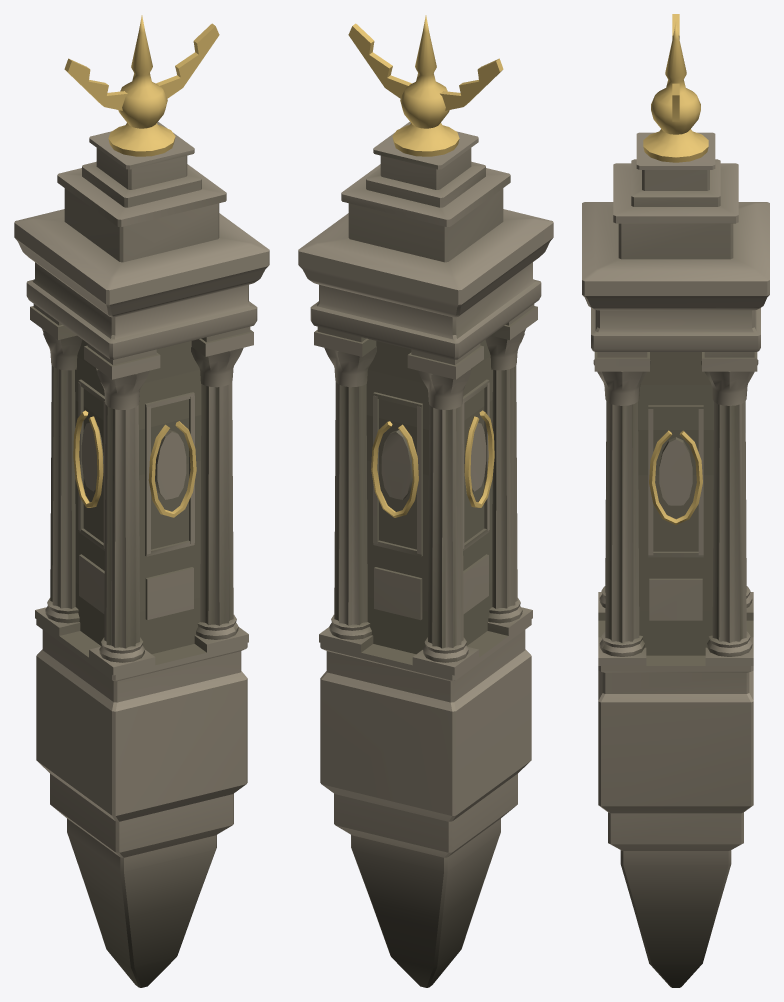
Rendered from pylon.glb.
3 renders of one model, left to right at view 1: azimuth 30°, elevation 25°; view 2: azimuth 150°, elevation 25°; view 3: azimuth 270°, elevation 25°, orthographic.
Parts seen in each view (by area): view 1: pylon_stone, pylon_gilt; view 2: pylon_stone, pylon_gilt; view 3: pylon_stone, pylon_gilt.
Part boxes in pixels (<box>): pylon_stone: <box>14,122,269,987</box>; pylon_gilt: <box>64,15,219,517</box>; pylon_stone: <box>298,122,553,987</box>; pylon_gilt: <box>348,15,503,517</box>; pylon_stone: <box>582,132,769,987</box>; pylon_gilt: <box>643,14,708,524</box>.
Size of the model in its own units: 2.1 by 11.9 by 2.1.
